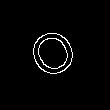O_SE: (20, 20, 83, 85)
